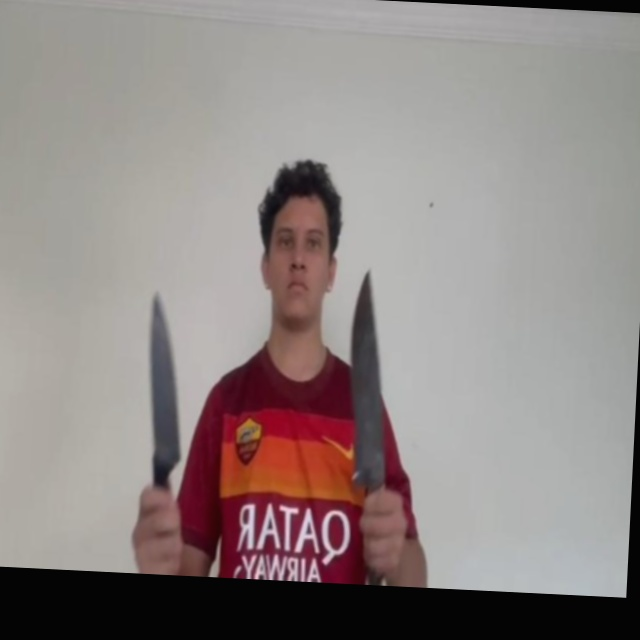Sharp-Object: (342, 270, 394, 487), (143, 290, 188, 463)
